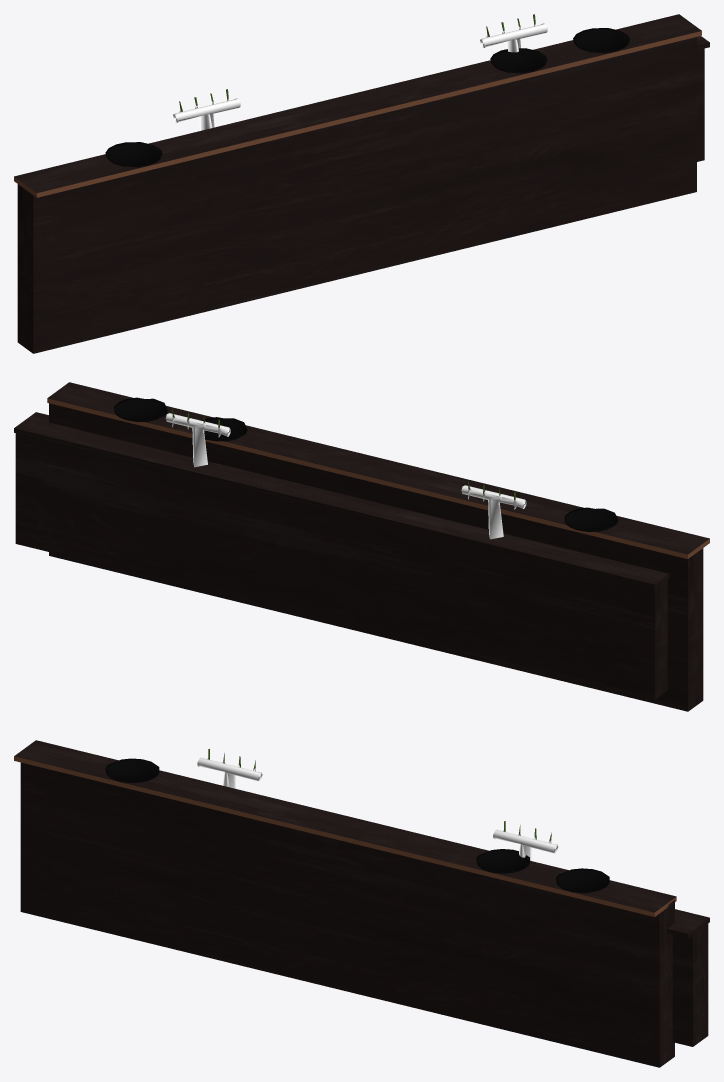
The model's file is bar_bas.gltf.
3 renders of one model, top to bottom at view 1: azimuth 30°, elevation 25°; view 2: azimuth 150°, elevation 25°; view 3: azimuth 330°, elevation 25°, orthographic. The views are drawn at different scales.
Visible parts, largest first — view 1: bas_bar_bas_1, bas_bar_bas, plateau001, plateau002, plateau003, bar_bas001, bas_tireuse002, bas_tireuse001; view 2: bar_bas001, bas_bar_bas_1, bas_bar_bas, bas_tireuse001, bas_tireuse002, plateau001, plateau002, plateau003; view 3: bas_bar_bas_1, bar_bas001, bas_bar_bas, plateau001, plateau002, plateau003, bas_tireuse002, bas_tireuse001.
Part boxes in pixels (left/top/right/bottom): bas_bar_bas_1: left=14, top=14, right=701, bottom=353; bas_bar_bas: left=14, top=31, right=701, bottom=197; plateau001: left=105, top=142, right=162, bottom=167; plateau002: left=573, top=28, right=630, bottom=53; plateau003: left=490, top=48, right=547, bottom=73; bar_bas001: left=697, top=36, right=709, bottom=161; bas_tireuse002: left=173, top=98, right=240, bottom=130; bas_tireuse001: left=480, top=23, right=547, bottom=52; bar_bas001: left=14, top=412, right=669, bottom=699; bas_bar_bas_1: left=47, top=382, right=709, bottom=711; bas_bar_bas: left=47, top=398, right=709, bottom=558; bas_tireuse001: left=165, top=413, right=230, bottom=467; bas_tireuse002: left=461, top=485, right=526, bottom=539; plateau001: left=564, top=507, right=618, bottom=531; plateau002: left=114, top=397, right=167, bottom=421; plateau003: left=201, top=417, right=247, bottom=441; bas_bar_bas_1: left=14, top=740, right=676, bottom=1067; bar_bas001: left=667, top=909, right=709, bottom=1046; bas_bar_bas: left=14, top=756, right=676, bottom=916; plateau001: left=105, top=758, right=159, bottom=783; plateau002: left=556, top=868, right=609, bottom=893; plateau003: left=476, top=849, right=529, bottom=873; bas_tireuse002: left=197, top=757, right=262, bottom=788; bas_tireuse001: left=493, top=829, right=558, bottom=860.
Bounding box in the file's own units: 2.32 × 0.624 × 0.2197.
Materials: 5 (1 with a texture image).
